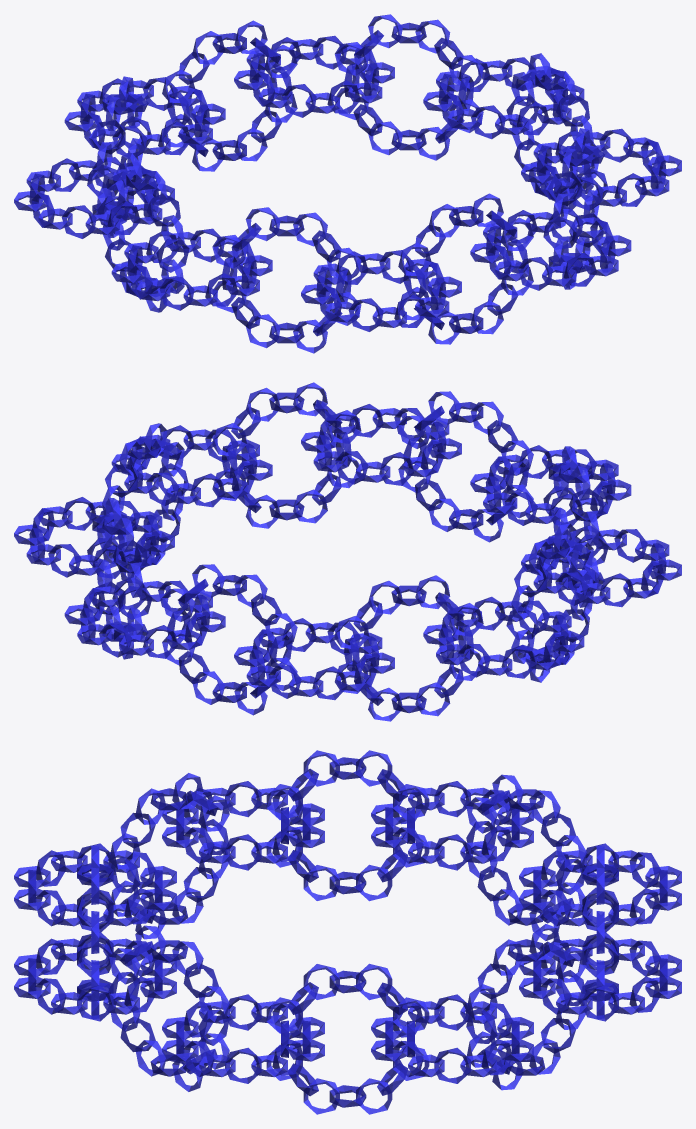
File: fractalhexagonalantiprismtrapezohedrontoroid2.glb
The picture shows the model from 3 angles, top to bottom: view 1: azimuth 30°, elevation 25°; view 2: azimuth 150°, elevation 25°; view 3: azimuth 270°, elevation 25°; orthographic projection. The views are drawn at different scales.
Size of the model in its own units: 10.58 by 2.58 by 10.58.
